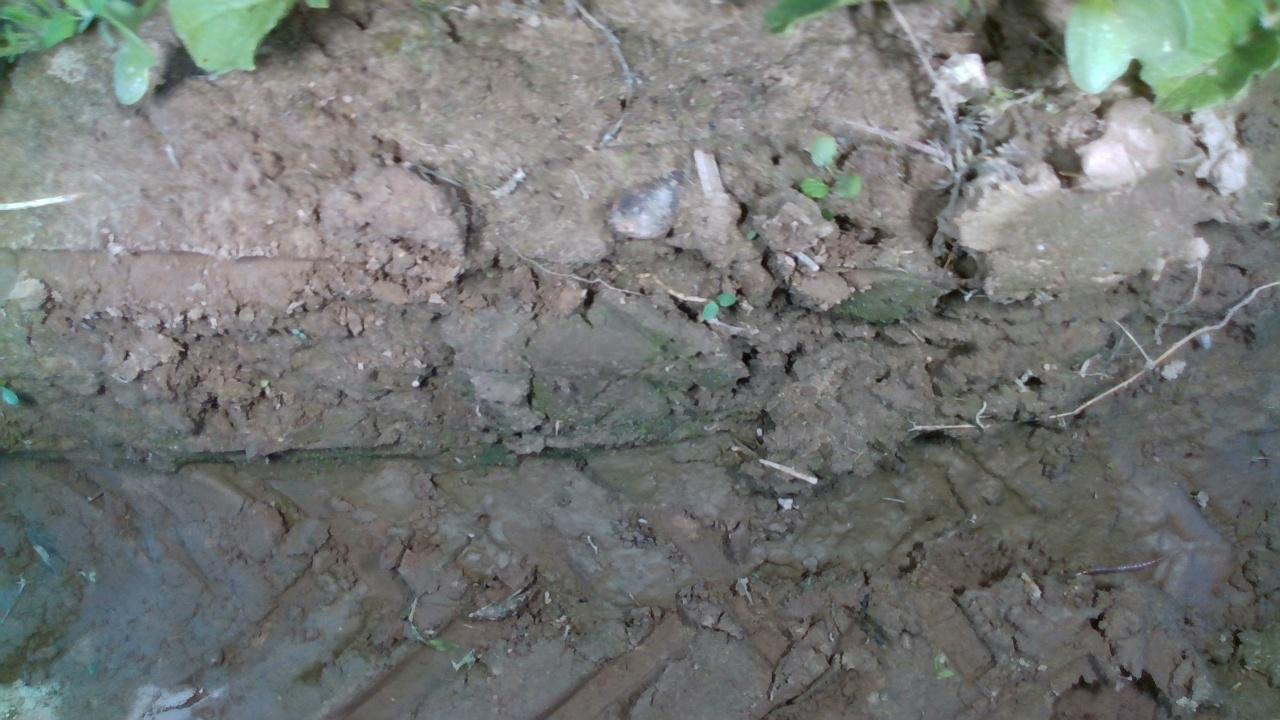weed: (697, 290, 735, 323)
